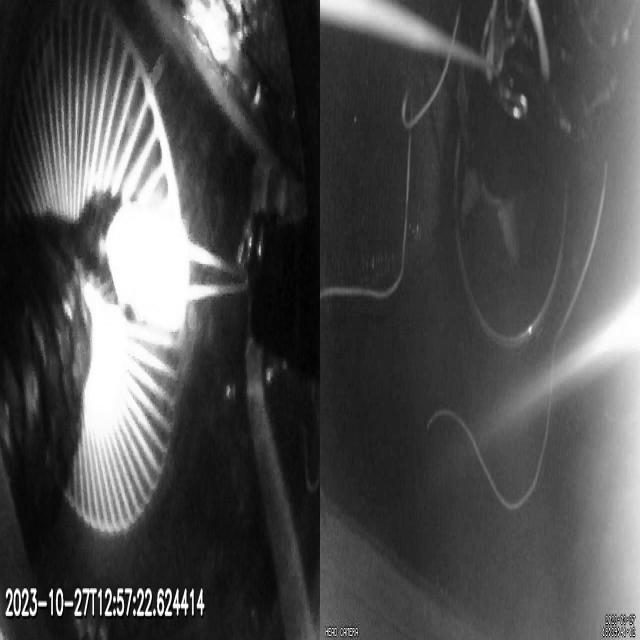head: (112, 201, 190, 329)
